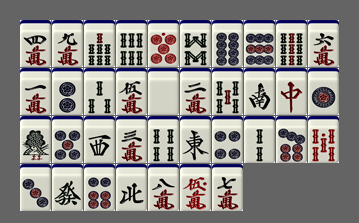0m: (180, 164, 211, 211)
0p: (148, 20, 179, 67)
0s: (308, 116, 339, 163)
1m: (20, 68, 51, 115)
1p: (308, 68, 339, 115)
1s: (20, 116, 51, 163)
1z: (180, 116, 211, 163)
2m: (180, 68, 211, 115)
2p: (52, 68, 83, 115)
2s: (244, 116, 275, 163)
2z: (244, 68, 275, 115)
3m: (116, 116, 147, 163)
3p: (20, 164, 51, 211)
3s: (84, 68, 115, 115)
3z: (84, 116, 115, 163)
4m: (20, 20, 51, 67)
4p: (212, 116, 243, 163)
4s: (148, 116, 179, 163)
4z: (116, 164, 147, 211)
5m: (116, 68, 147, 115)
5p: (52, 116, 83, 163)
5s: (212, 68, 243, 115)
5z: (148, 68, 179, 115)
6m: (308, 20, 339, 67)
6p: (84, 164, 115, 211)
6s: (116, 20, 147, 67)
6z: (52, 164, 83, 211)
7m: (212, 164, 243, 211)
7p: (276, 116, 307, 163)
7s: (84, 20, 115, 67)
7z: (276, 68, 307, 115)
8m: (148, 164, 179, 211)
8p: (212, 20, 243, 67)
8s: (180, 20, 211, 67)
9m: (52, 20, 83, 67)
9p: (244, 20, 275, 67)
9s: (276, 20, 307, 67)
